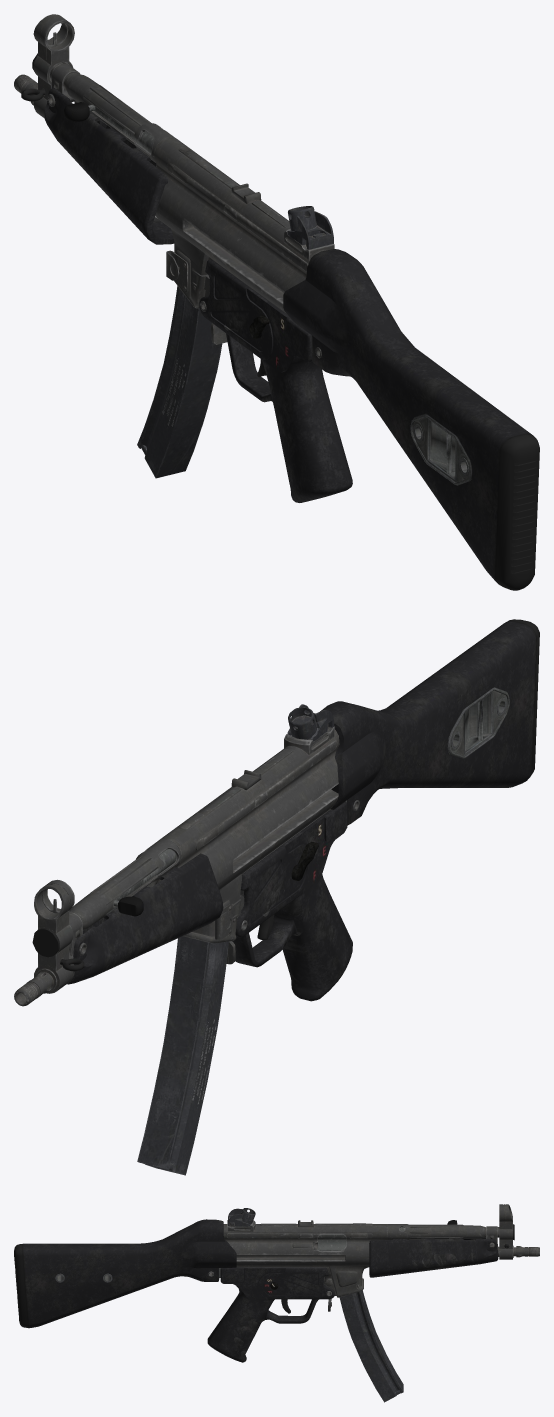
3 views of the same model, one above another, from view 1: azimuth 30°, elevation 25°; view 2: azimuth 150°, elevation 25°; view 3: azimuth 270°, elevation 25° (orthographic). The views are drawn at different scales.
Visible parts, largest first — view 1: Buttstock, HandGuard, Reciever, Body, Attachements; view 2: Buttstock, HandGuard, Reciever, Body, Attachements; view 3: Buttstock, HandGuard, Body, Reciever, Attachements.
Part boxes in pixels (x1,y1,x2,y2): Buttstock: [283, 249, 539, 590]; HandGuard: [44, 87, 352, 502]; Reciever: [33, 14, 222, 478]; Body: [153, 137, 334, 314]; Attachements: [14, 53, 472, 485]; Buttstock: [320, 619, 539, 825]; HandGuard: [67, 801, 352, 1001]; Reciever: [34, 839, 228, 1175]; Body: [158, 723, 339, 943]; Attachements: [14, 687, 509, 1006]; Buttstock: [14, 1219, 236, 1328]; HandGuard: [207, 1237, 498, 1362]; Body: [223, 1217, 387, 1297]; Reciever: [339, 1204, 512, 1402]; Attachements: [55, 1208, 539, 1313].
Size of the model in its own units: 0.0612 by 0.2761 by 0.68.
5 materials, 5 textured.
